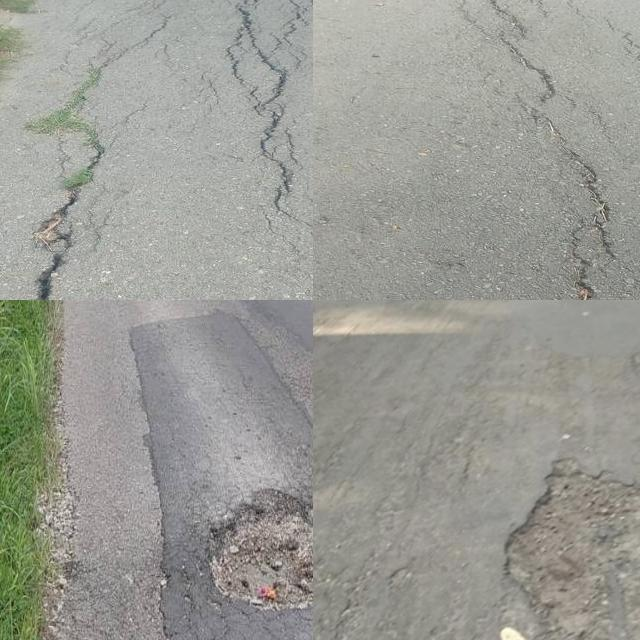Lubang: (498, 461, 640, 640), (202, 498, 313, 615)
Memanjang: (448, 0, 618, 300), (19, 142, 115, 300), (241, 4, 295, 236)
Sambungan: (129, 309, 313, 640)
